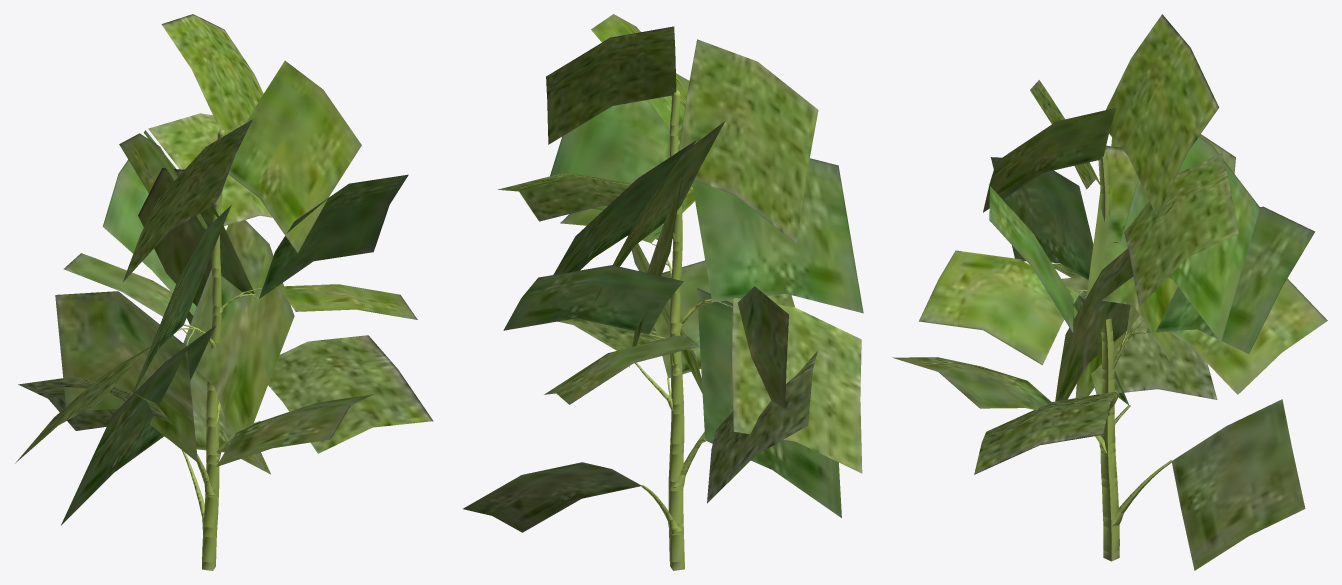
The model's file is plant_model_2_fbx.fbx.
3 renders of one model, left to right at view 1: azimuth 30°, elevation 25°; view 2: azimuth 150°, elevation 25°; view 3: azimuth 270°, elevation 25°, orthographic. The views are drawn at different scales.
Visible parts, largest first — view 1: Wild_Pla; view 2: Wild_Pla; view 3: Wild_Pla.
Part boxes in pixels (x1,y1,x2,y2): Wild_Pla: (15, 14, 433, 570); Wild_Pla: (463, 14, 863, 570); Wild_Pla: (892, 14, 1327, 570).
Bounding box in the file's own units: 3.08 × 4.6 × 3.41.
Materials: 1 (1 with a texture image).
